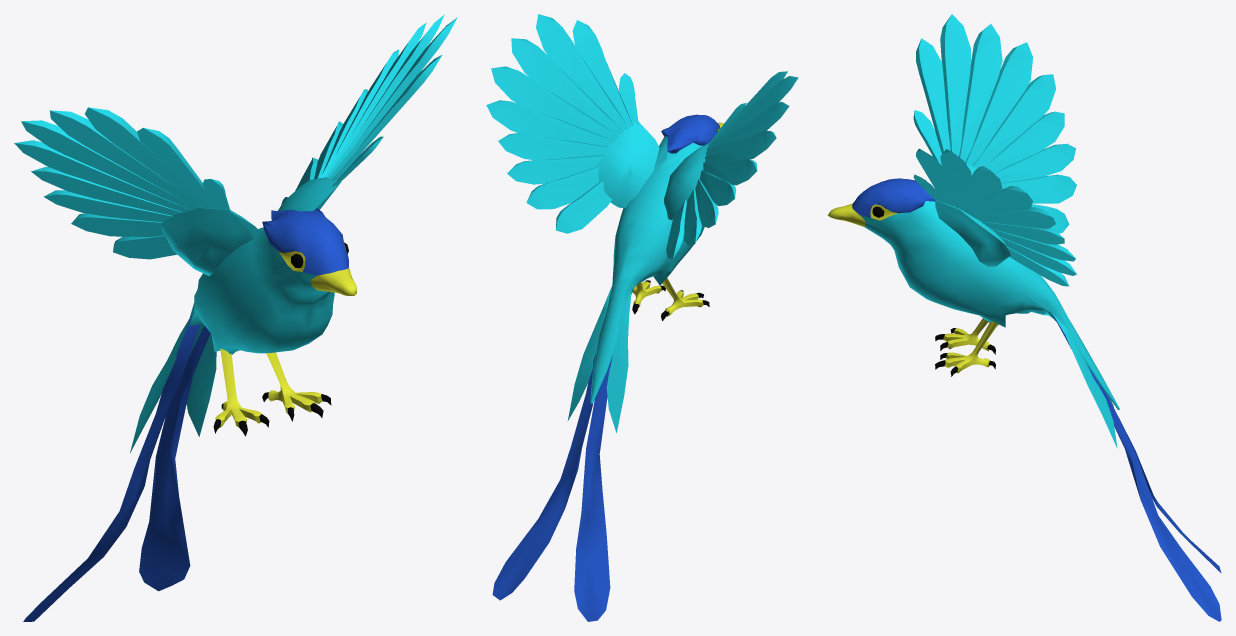
The model's file is bird 1.obj.
3 renders of one model, left to right at view 1: azimuth 30°, elevation 25°; view 2: azimuth 150°, elevation 25°; view 3: azimuth 270°, elevation 25°, orthographic. The views are drawn at different scales.
Parts seen in each view (by area): view 1: rwing, dyellow, feather1, lwing, byellow, feather2, leg, red; view 2: lwing, feather1, rwing, dyellow, feather2, byellow, leg; view 3: rwing, dyellow, lwing, feather1, byellow, leg, feather2, red.
Boxes of the visible parts, <box> form: rwing: <box>14,107,260,276</box>; dyellow: <box>189,227,334,355</box>; feather1: <box>23,314,210,621</box>; lwing: <box>278,14,457,211</box>; byellow: <box>262,208,348,275</box>; feather2: <box>130,313,216,452</box>; leg: <box>215,349,322,427</box>; red: <box>279,245,356,295</box>; lwing: <box>486,14,659,233</box>; feather1: <box>492,291,631,621</box>; rwing: <box>664,71,798,258</box>; dyellow: <box>590,136,704,403</box>; feather2: <box>567,286,631,432</box>; byellow: <box>661,114,720,153</box>; leg: <box>632,278,703,316</box>; rwing: <box>913,14,1076,233</box>; dyellow: <box>860,201,1119,409</box>; lwing: <box>913,149,1076,286</box>; feather1: <box>1052,314,1221,621</box>; byellow: <box>852,178,934,217</box>; leg: <box>943,318,998,373</box>; feather2: <box>1053,314,1117,448</box>; red: <box>827,203,897,226</box>.
Size of the model in its own units: 398 by 631 by 438.
